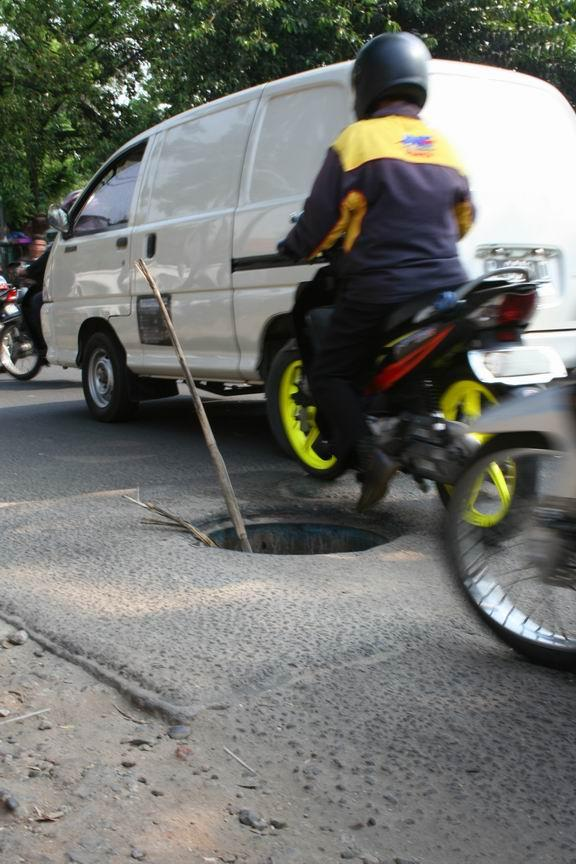Pothole: (151, 476, 417, 602)
